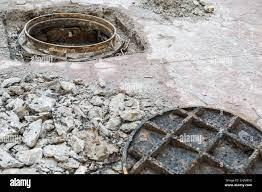open manhole-not overflowing-: (9, 3, 128, 66)
